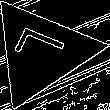L_SE: (9, 27, 73, 76)
